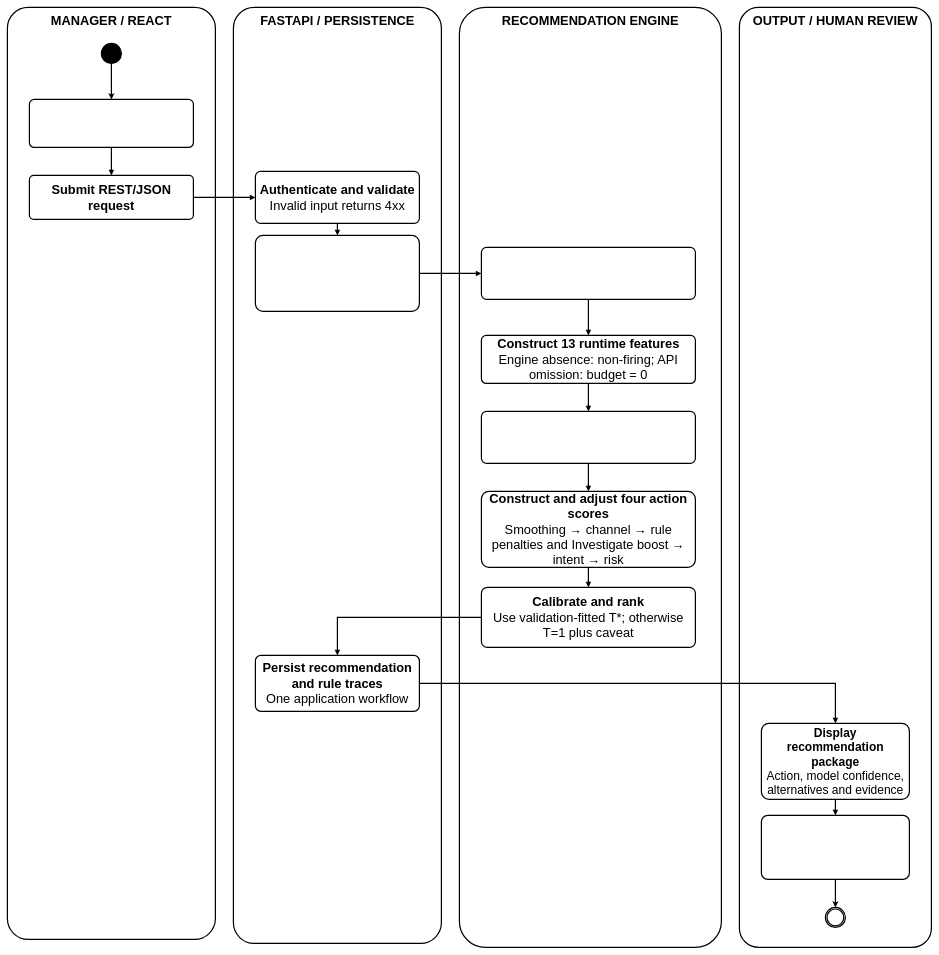
Image size: 939x955. Some labels were removed from this diagram. Each missing label, with the centre of its shape:
Generate learned and channel evidence CampaignNet 11; ActionNet 13+3: the point at 588,437
Human decision and feedback No automatic campaign execution: the point at 835,847
Lazy engine initialisation Training-only fitted models and validation-fitted T*: the point at 588,273
Load campaign and active rules Within authenticated user scope: the point at 337,273
Select campaign, intent and risk: the point at 111,123
